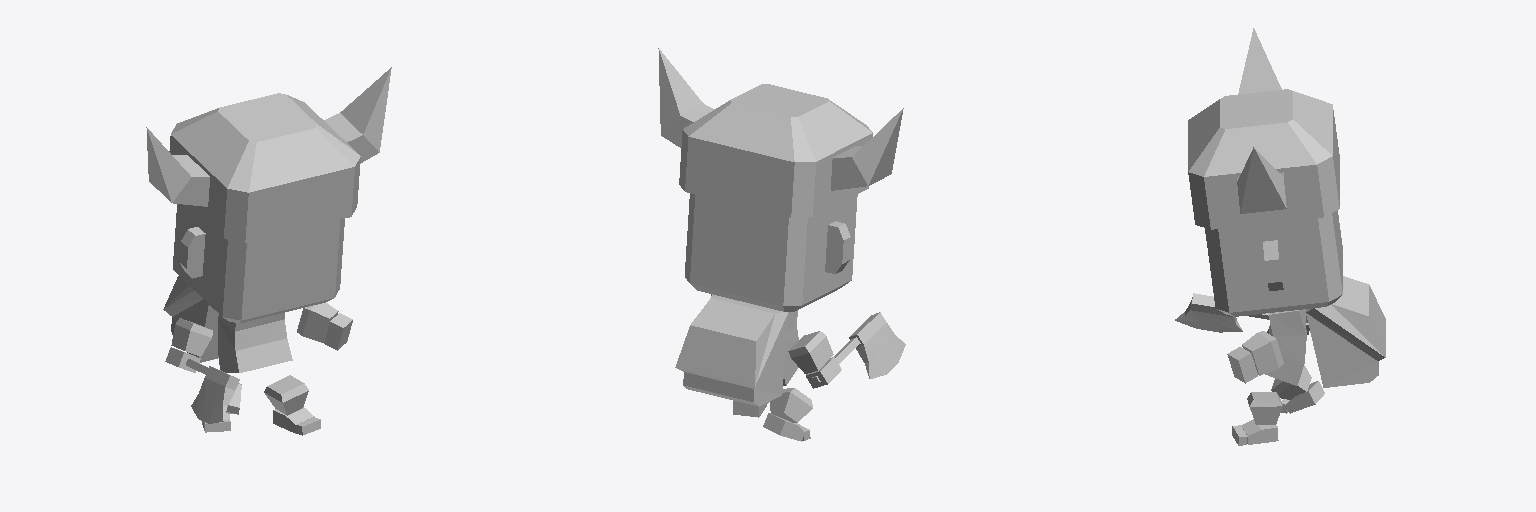
The model's file is mini_knight_000006.obj.
The picture shows the model from 3 angles: view 1: azimuth 30°, elevation 25°; view 2: azimuth 150°, elevation 25°; view 3: azimuth 270°, elevation 25°; orthographic projection.
Visible parts, largest first — view 1: cap_Object01_Material__3, Mesh_objheadusOBJexport_Material, back_Object03_Material__3, axe_Object02_Material__3; view 2: cap_Object01_Material__3, Mesh_objheadusOBJexport_Material, back_Object03_Material__3, axe_Object02_Material__3; view 3: cap_Object01_Material__3, Mesh_objheadusOBJexport_Material, back_Object03_Material__3, axe_Object02_Material__3.
Part boxes in pixels (bbox=[...]): cap_Object01_Material__3: bbox=[146, 67, 391, 242]; Mesh_objheadusOBJexport_Material: bbox=[165, 204, 352, 435]; back_Object03_Material__3: bbox=[163, 276, 218, 362]; axe_Object02_Material__3: bbox=[186, 359, 239, 423]; cap_Object01_Material__3: bbox=[658, 48, 903, 217]; Mesh_objheadusOBJexport_Material: bbox=[685, 193, 857, 441]; back_Object03_Material__3: bbox=[675, 294, 787, 406]; axe_Object02_Material__3: bbox=[811, 312, 905, 383]; cap_Object01_Material__3: bbox=[1188, 28, 1339, 229]; Mesh_objheadusOBJexport_Material: bbox=[1205, 210, 1342, 445]; back_Object03_Material__3: bbox=[1306, 276, 1385, 387]; axe_Object02_Material__3: bbox=[1175, 293, 1268, 332].
Bounding box in the file's own units: 1.94 × 2.55 × 1.45.